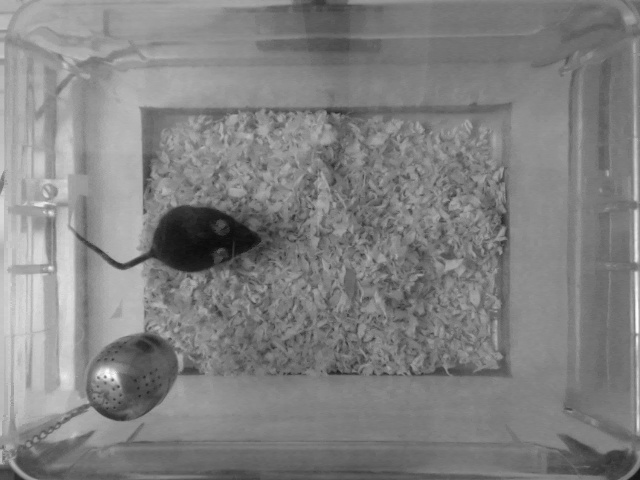mice: (67, 197, 262, 274)
